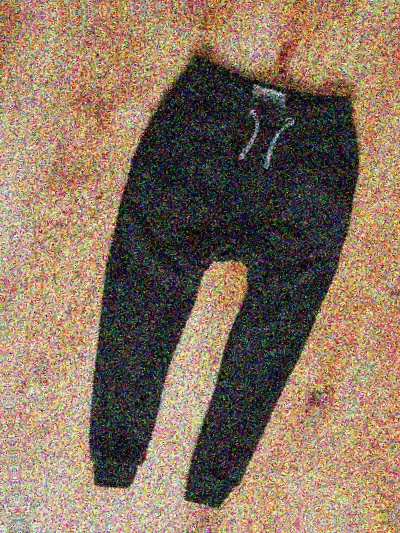Pants: (17, 15, 400, 508)
